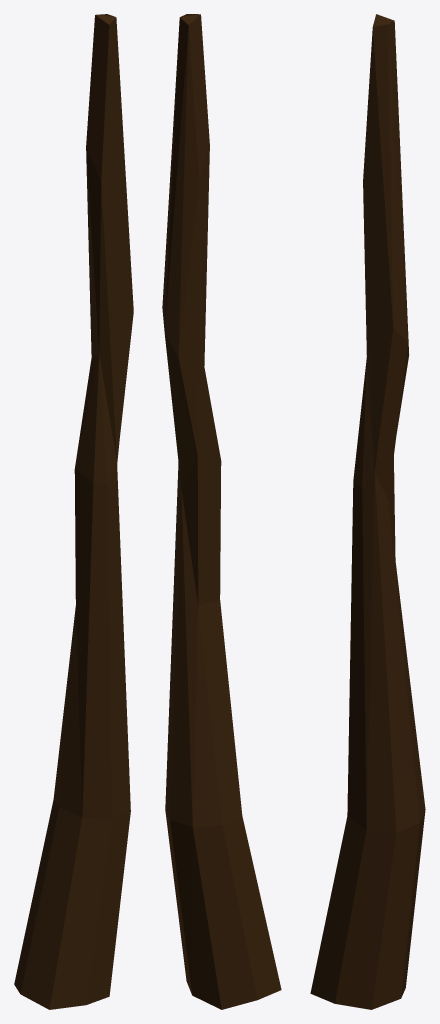
The model's file is Taiga_Tronc3.fbx.
3 renders of one model, left to right at view 1: azimuth 30°, elevation 25°; view 2: azimuth 210°, elevation 25°; view 3: azimuth 330°, elevation 25°, orthographic.
Parts seen in each view (by area): view 1: Vert.009; view 2: Vert.009; view 3: Vert.009.
Part boxes in pixels (x1,y1,x2,y2): Vert.009: (14, 14, 133, 1009); Vert.009: (162, 14, 281, 1009); Vert.009: (310, 14, 425, 1009).
Bounding box in the file's own units: 46.08 × 415 × 36.91.
